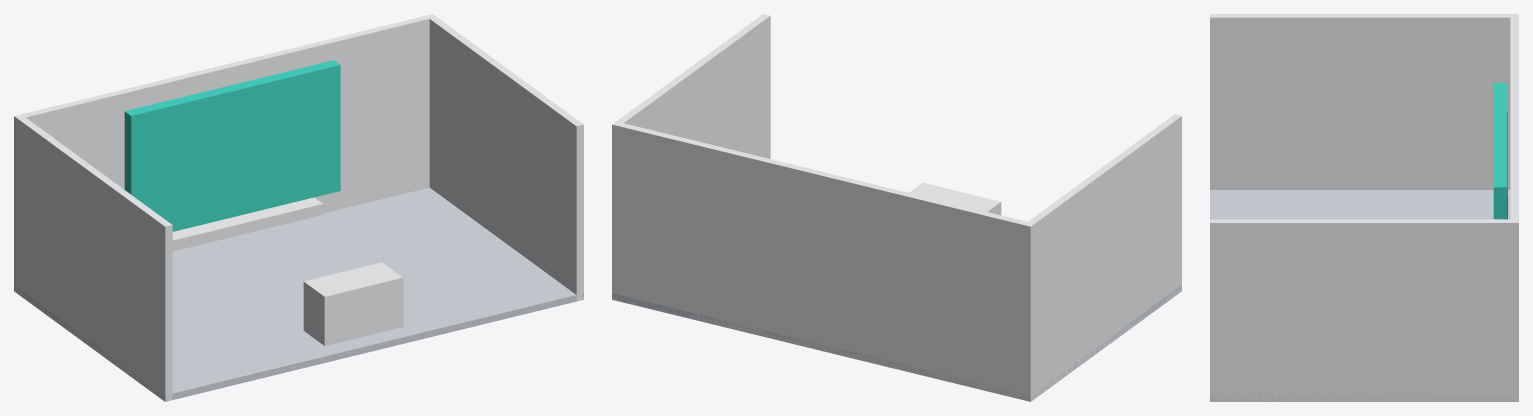
The picture shows the model from 3 angles, left to right: view 1: azimuth 30°, elevation 25°; view 2: azimuth 150°, elevation 25°; view 3: azimuth 270°, elevation 25°; orthographic projection. The views are drawn at different scales.
Visible parts, largest first — view 1: Exhibition Booth Concept; view 2: Exhibition Booth Concept; view 3: Exhibition Booth Concept.
Boxes of the visible parts, bbox=[...] form: Exhibition Booth Concept: bbox=[14, 14, 583, 401]; Exhibition Booth Concept: bbox=[612, 14, 1181, 401]; Exhibition Booth Concept: bbox=[1210, 14, 1518, 401].
Size of the model in its own units: 8 by 3.2 by 5.
